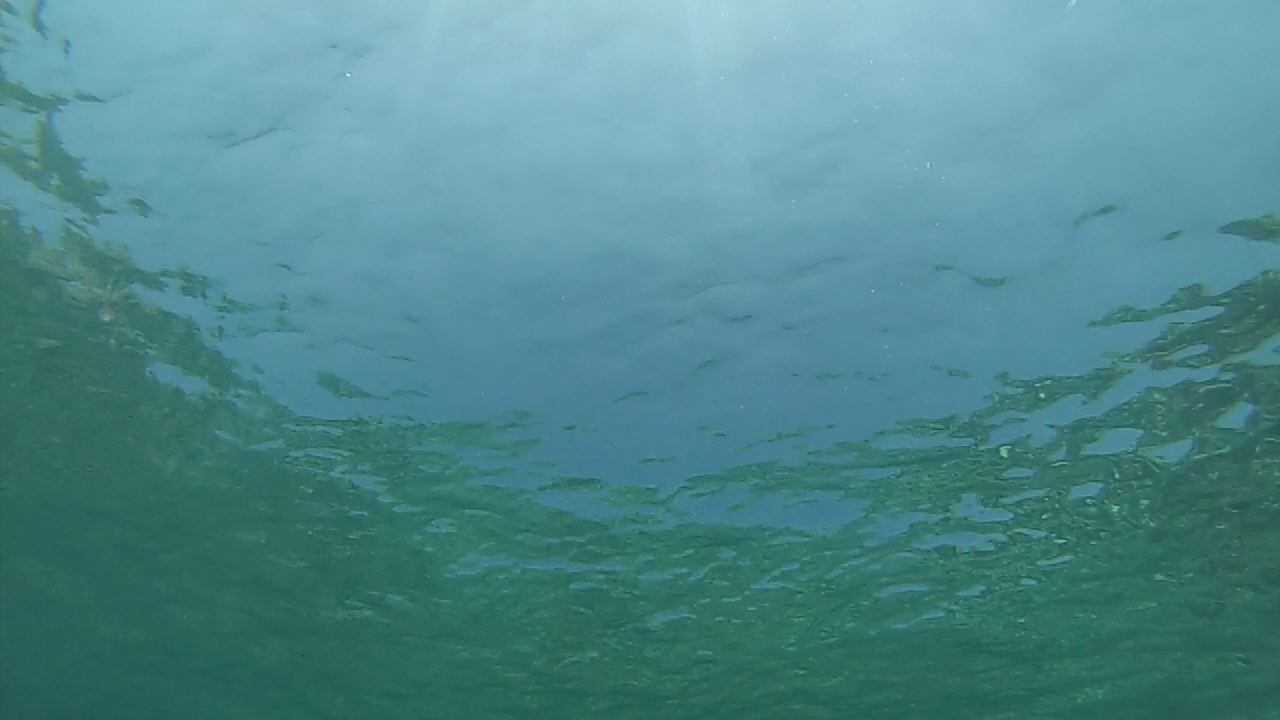pelagia: (95, 268, 131, 334)
